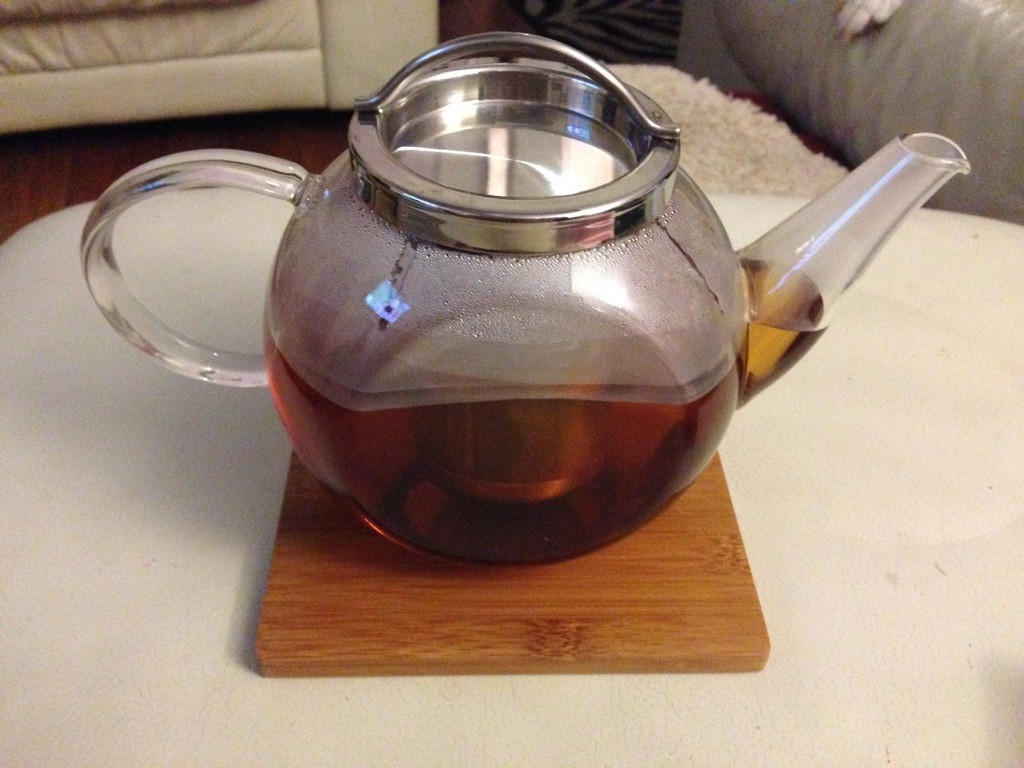teapot: (80, 32, 971, 566)
